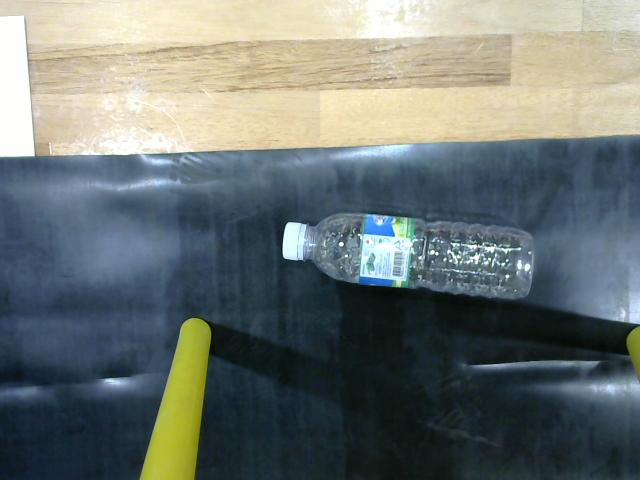bottle: (271, 201, 545, 310)
